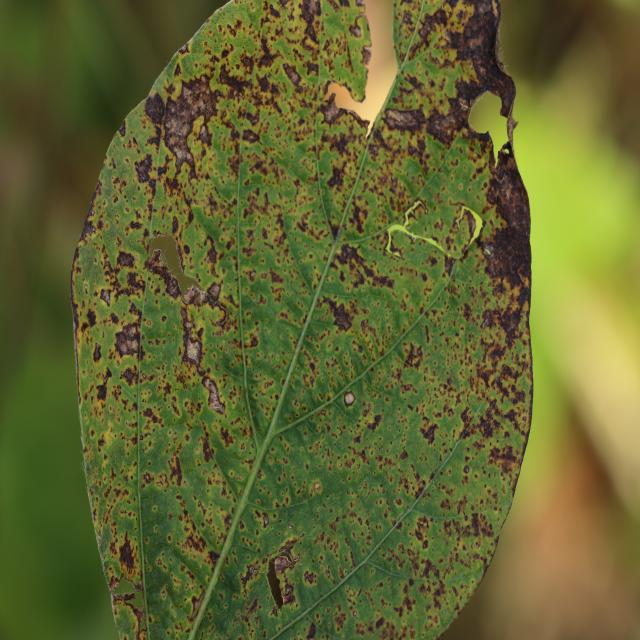Bacterial_Blight: (147, 247, 186, 299), (414, 6, 454, 56), (426, 99, 470, 143), (69, 262, 82, 403), (316, 290, 356, 335), (488, 298, 527, 344), (240, 185, 278, 227), (180, 315, 207, 372), (382, 107, 426, 137), (216, 60, 248, 98), (487, 440, 521, 475), (76, 205, 98, 249), (495, 362, 524, 395), (117, 532, 137, 574), (326, 161, 352, 192), (144, 90, 166, 126), (320, 94, 344, 126), (182, 527, 208, 555), (403, 198, 428, 226), (127, 604, 148, 637), (133, 153, 154, 184), (254, 69, 278, 96), (171, 142, 194, 170), (273, 552, 299, 575), (95, 368, 112, 402), (115, 249, 139, 272), (168, 451, 183, 487), (239, 563, 259, 590), (411, 515, 431, 542), (403, 342, 423, 368), (282, 62, 303, 86), (212, 303, 231, 329), (201, 431, 216, 462), (420, 422, 438, 445), (477, 415, 495, 438), (119, 366, 138, 386), (198, 121, 213, 146), (281, 582, 296, 606), (480, 309, 495, 332), (242, 127, 261, 145), (206, 282, 221, 304), (366, 412, 383, 431), (329, 224, 343, 245), (470, 512, 482, 536), (305, 621, 317, 639), (92, 342, 102, 363), (309, 480, 322, 496), (361, 46, 371, 66), (100, 288, 111, 306), (108, 576, 120, 592), (483, 244, 495, 259), (350, 24, 362, 38), (375, 616, 385, 629), (262, 512, 270, 527), (178, 43, 188, 54), (483, 563, 489, 576), (249, 270, 256, 281), (463, 464, 470, 474), (84, 284, 88, 293), (161, 591, 166, 598), (289, 523, 294, 530)
Soybean: (71, 0, 533, 640)
